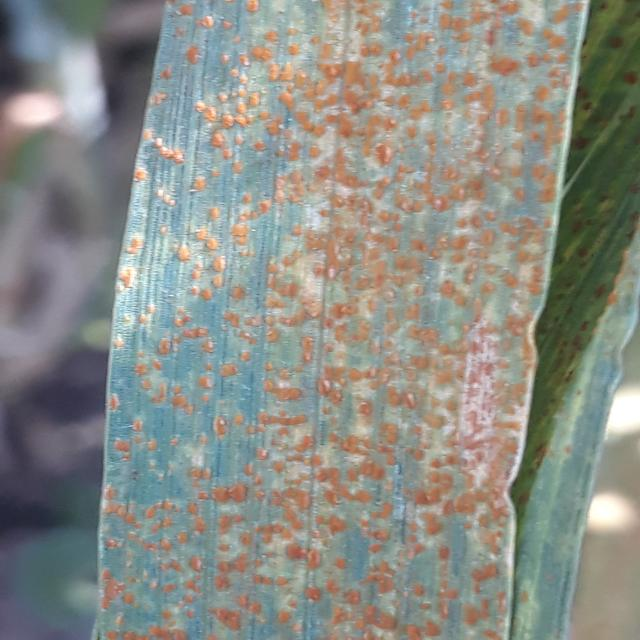orang_rust: (87, 0, 596, 640), (517, 0, 637, 512)
